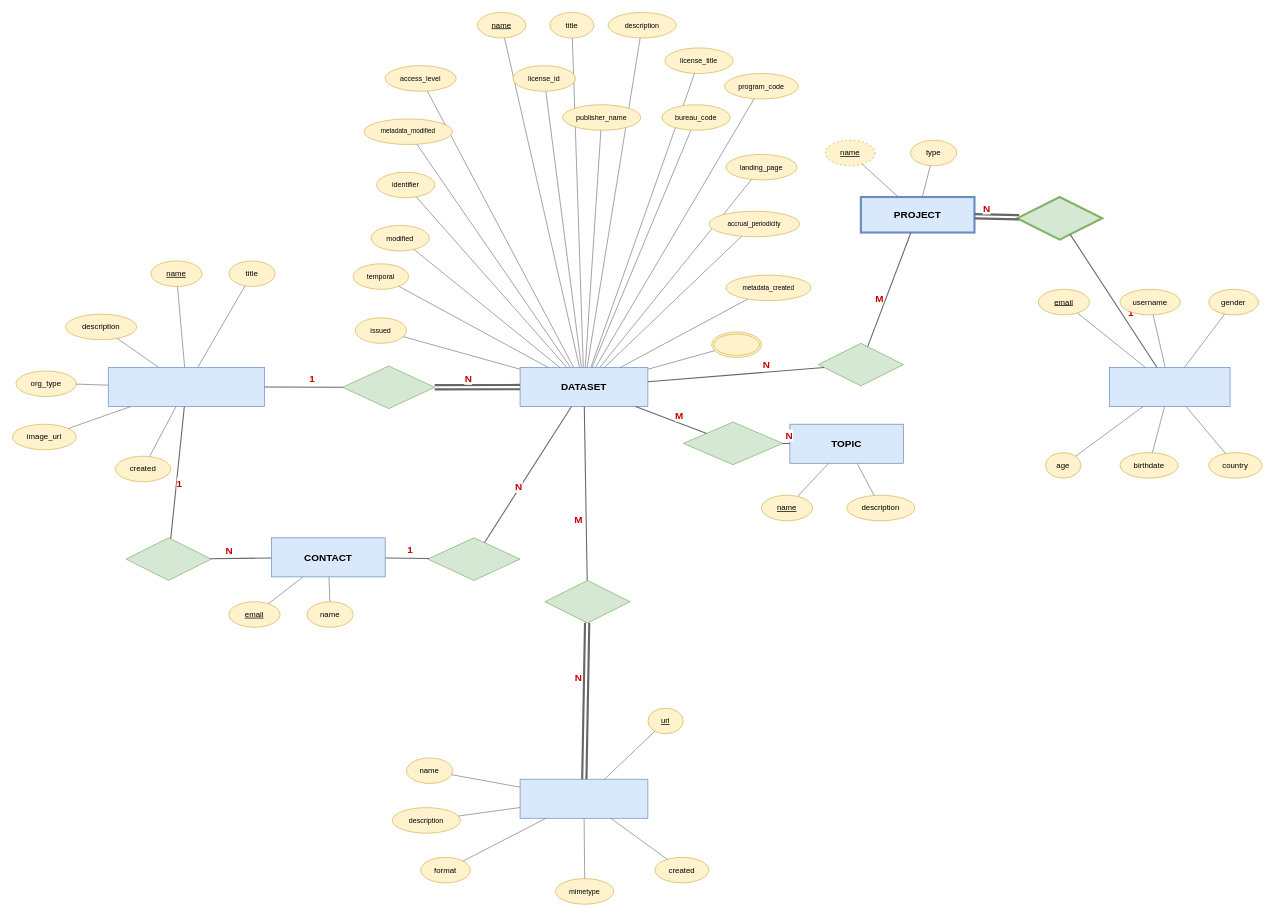
This 1274x917 diagram has some shape labels left out. Each missing label, with the box of its shape:
APP_USER: (1109, 367, 1230, 406)
Assigned to: (125, 537, 211, 580)
categorized_by: (683, 421, 783, 465)
creates: (1016, 196, 1103, 240)
has: (544, 580, 630, 623)
maintains: (427, 537, 520, 580)
ORGANIZATION: (108, 367, 264, 406)
publishes: (342, 365, 435, 409)
RESOURCE: (519, 779, 648, 818)
tag: (711, 331, 761, 357)
uses: (818, 343, 903, 386)
